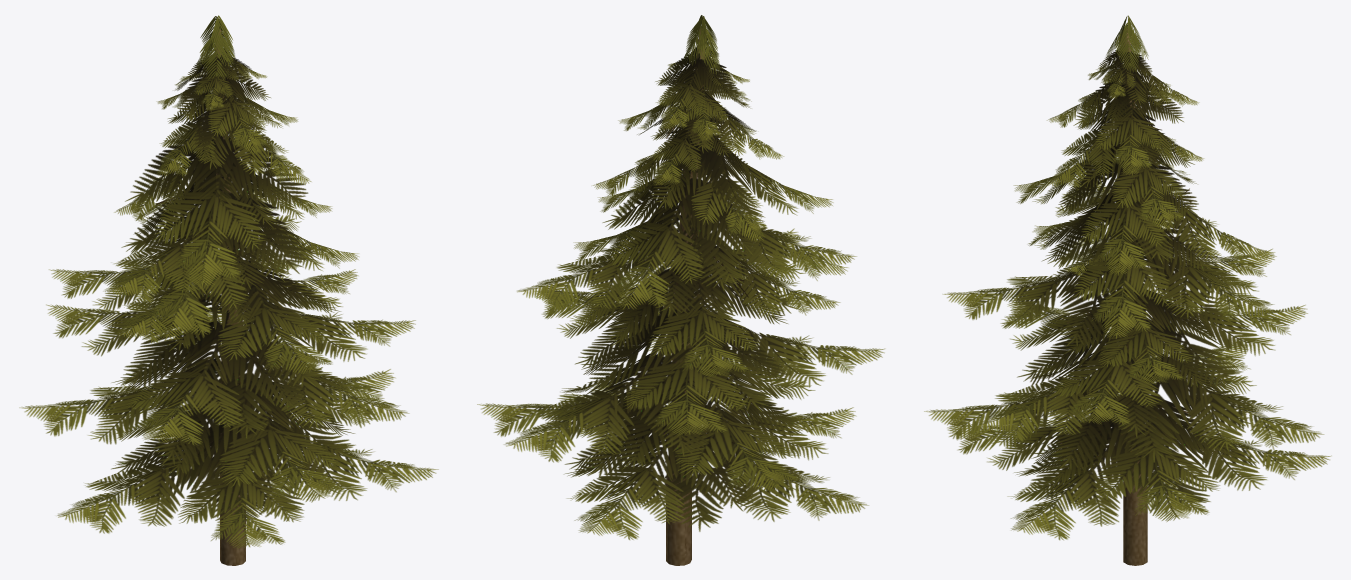
The model's file is pine_tree.glb.
3 renders of one model, left to right at view 1: azimuth 30°, elevation 25°; view 2: azimuth 150°, elevation 25°; view 3: azimuth 270°, elevation 25°, orthographic. The views are drawn at different scales.
Parts seen in each view (by area): view 1: Leaves/001, Trank.001; view 2: Leaves/001, Trank.001; view 3: Leaves/001, Trank.001.
Boxes of the visible parts, left/top/right/bottom form: Leaves/001: left=19, top=15, right=438, bottom=548; Trank.001: left=214, top=29, right=245, bottom=565; Leaves/001: left=477, top=15, right=884, bottom=539; Trank.001: left=666, top=28, right=705, bottom=565; Leaves/001: left=924, top=15, right=1330, bottom=540; Trank.001: left=1121, top=28, right=1147, bottom=565.
Bounding box in the file's own units: 217 × 308 × 217.
Materials: 2 (2 with a texture image).
